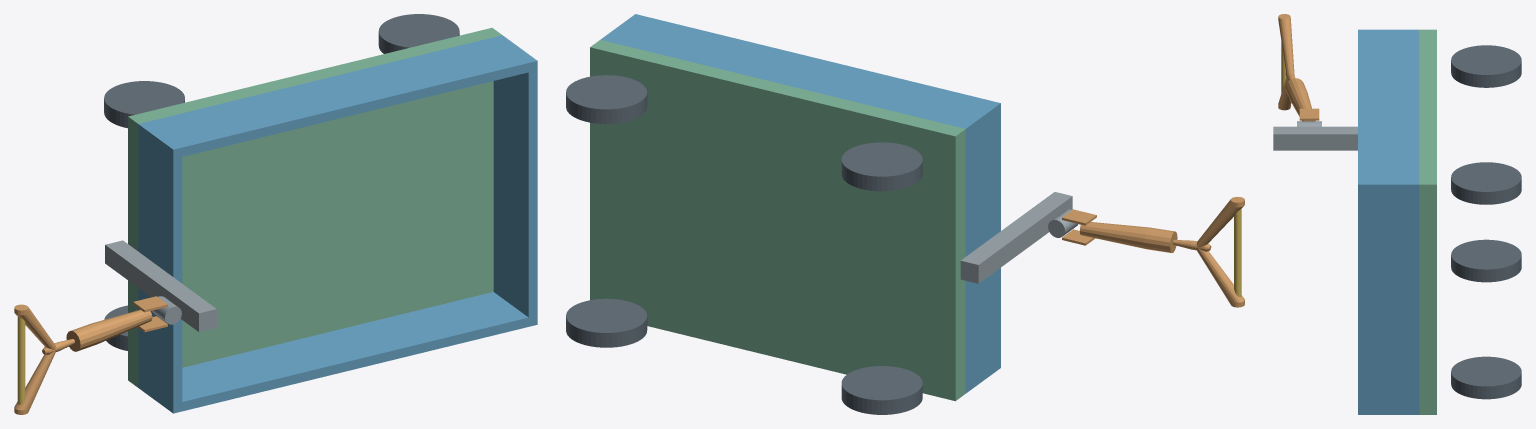
Rendered from cart_collision.glb.
3 renders of one model, left to right at view 1: azimuth 30°, elevation 25°; view 2: azimuth 150°, elevation 25°; view 3: azimuth 270°, elevation 25°, orthographic. The views are drawn at different scales.
Parts seen in each view (by area): view 1: cart_deck_frame, cart_side_left, cart_side_right, cart_end_rear, cart_end_front, cart_mast, cart_wheel_80_190, cart_wheel_570_190, cart_drawbar, cart_bite_yoke_right, cart_bite_bar, cart_bite_yoke_left; view 2: cart_deck_frame, cart_side_left, cart_end_front, cart_mast, cart_wheel_80_190, cart_wheel_570_-190, cart_wheel_80_-190, cart_wheel_570_190, cart_drawbar, cart_bite_yoke_right, cart_bite_yoke_left, cart_bite_bar; view 3: cart_end_rear, cart_side_left, cart_deck_frame, cart_wheel_570_-190, cart_wheel_80_-190, cart_wheel_80_190, cart_wheel_570_190, cart_mast, cart_bite_yoke_left, cart_drawbar, cart_side_right, cart_pitch_clevis_left (+1 smaller).
Part boxes in pixels (box(x1,y1,x2,y2)): cart_deck_frame: box(128, 27, 501, 387); cart_side_left: box(138, 35, 537, 158); cart_side_right: box(138, 292, 537, 413); cart_end_rear: box(493, 70, 537, 317); cart_end_front: box(138, 133, 182, 403); cart_mast: box(105, 240, 216, 331); cart_wheel_80_190: box(104, 81, 184, 128); cart_wheel_570_190: box(378, 14, 459, 53); cart_drawbar: box(66, 309, 152, 351); cart_bite_yoke_right: box(14, 350, 55, 414); cart_bite_bar: box(17, 317, 25, 404); cart_bite_yoke_left: box(14, 304, 55, 349); cart_deck_frame: box(590, 40, 965, 401); cart_side_left: box(600, 14, 1000, 137); cart_end_front: box(965, 113, 1000, 383); cart_mast: box(960, 192, 1072, 283); cart_wheel_80_190: box(841, 142, 922, 191); cart_wheel_570_-190: box(566, 298, 647, 347); cart_wheel_80_-190: box(841, 366, 922, 414); cart_wheel_570_190: box(566, 75, 647, 123); cart_drawbar: box(1080, 222, 1177, 252); cart_bite_yoke_right: box(1197, 248, 1244, 307); cart_bite_yoke_left: box(1196, 196, 1244, 247); cart_bite_bar: box(1234, 209, 1241, 297); cart_end_rear: box(1358, 193, 1419, 406); cart_side_left: box(1358, 29, 1419, 192); cart_deck_frame: box(1419, 29, 1436, 414); cart_wheel_570_-190: box(1451, 356, 1521, 399); cart_wheel_80_-190: box(1451, 239, 1521, 282); cart_wheel_80_190: box(1451, 45, 1521, 87); cart_wheel_570_190: box(1451, 162, 1521, 204); cart_mast: box(1273, 126, 1357, 150); cart_bite_yoke_left: box(1278, 14, 1294, 76); cart_drawbar: box(1285, 78, 1315, 121); cart_side_right: box(1358, 406, 1419, 414); cart_pitch_clevis_left: box(1299, 108, 1319, 120).
Bounding box in the file's own units: 1.01 × 0.45 × 0.44.
